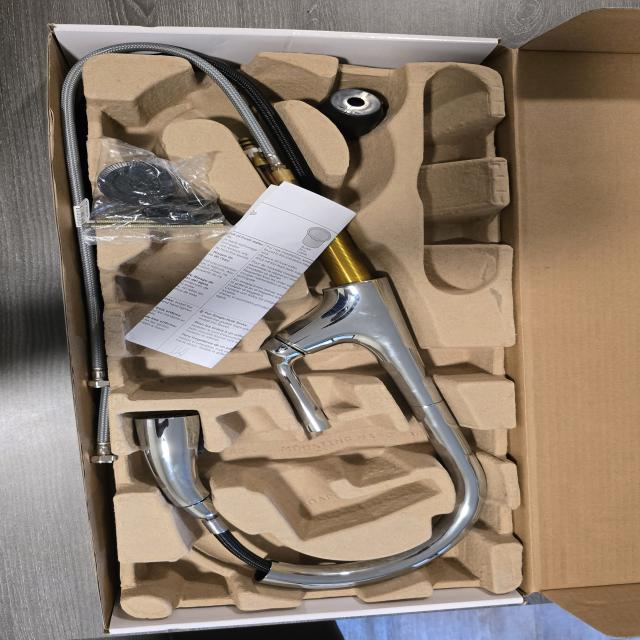1o: (132, 53, 489, 589)
2m: (214, 406, 442, 541)
3m: (114, 219, 240, 398)
4m: (417, 66, 498, 295)
5: (319, 87, 387, 141)
6m: (105, 79, 202, 153)
7: (87, 135, 239, 247)
8: (120, 179, 361, 370)
